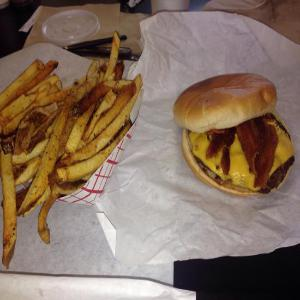cheeseburger: (175, 63, 297, 208)
fries: (5, 39, 142, 247)
